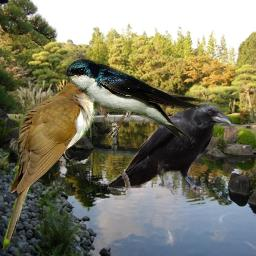Crow: (102, 102, 232, 200)
Cuckoo: (3, 78, 108, 254)
Swallow: (63, 58, 207, 143)
